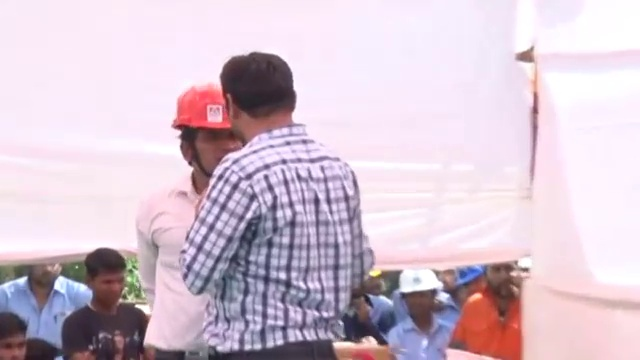helmet: (174, 86, 241, 135), (400, 264, 442, 299), (458, 265, 483, 287)
helmet_off: (210, 54, 305, 144), (85, 245, 131, 316), (0, 310, 30, 360), (23, 261, 61, 296), (487, 259, 519, 296)
helmet_on: (169, 83, 245, 192), (400, 264, 444, 331), (459, 265, 485, 297)
person: (175, 50, 372, 360), (135, 80, 246, 356), (58, 244, 149, 360), (0, 256, 93, 360), (451, 258, 525, 360), (387, 263, 460, 355)
